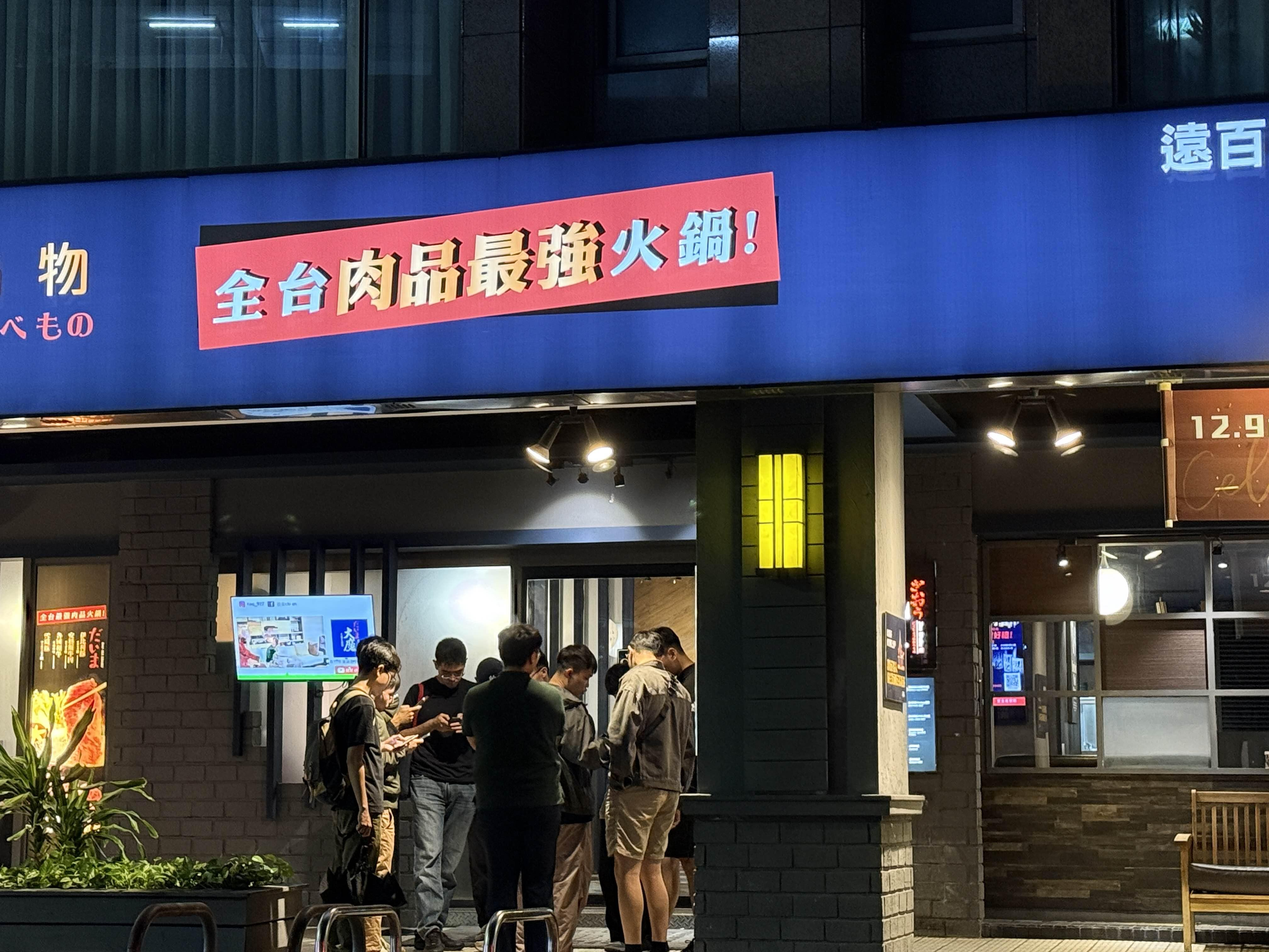NoHelmet: (497, 624, 543, 675), (358, 641, 400, 690), (559, 642, 596, 697), (433, 637, 467, 685), (625, 629, 664, 668)
NoVest: (474, 680, 561, 801), (623, 670, 689, 792), (324, 693, 382, 812)
